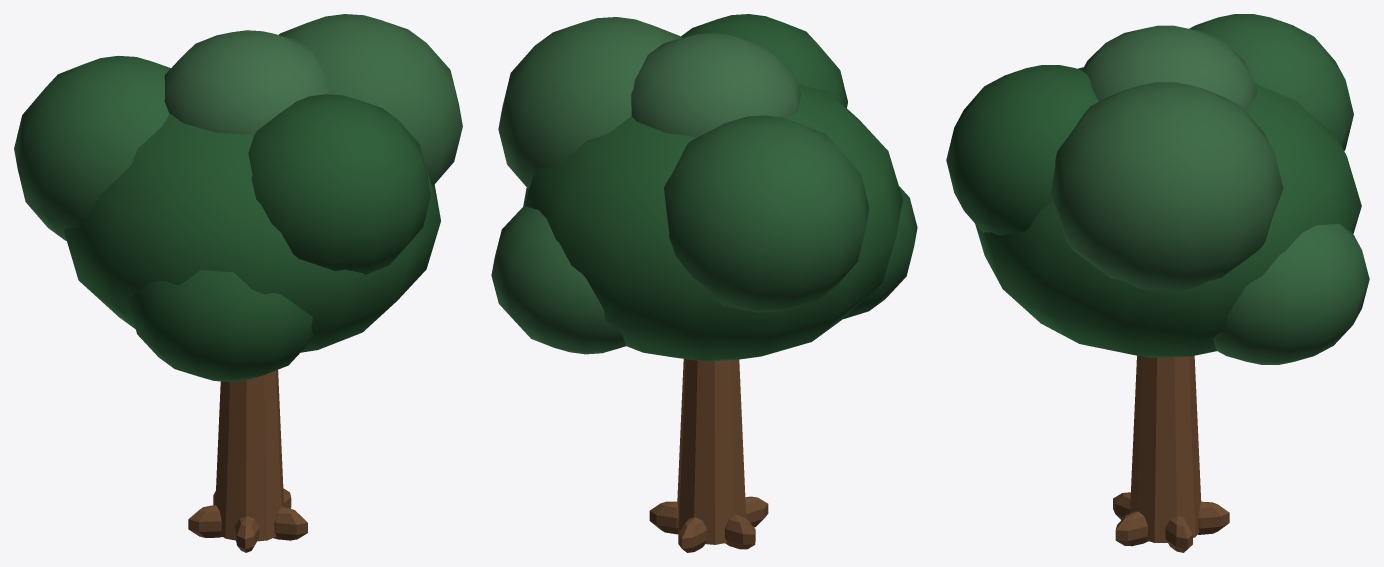
The model's file is Planta_PoisonApple.fbx.
The picture shows the model from 3 angles, left to right: view 1: azimuth 30°, elevation 25°; view 2: azimuth 150°, elevation 25°; view 3: azimuth 270°, elevation 25°; orthographic projection.
Visible parts, largest first — view 1: Corpo_PoisonApple; view 2: Corpo_PoisonApple; view 3: Corpo_PoisonApple.
Boxes of the visible parts, x1,y1,x2,y2 form: Corpo_PoisonApple: (14,14,462,552); Corpo_PoisonApple: (491,14,917,552); Corpo_PoisonApple: (946,14,1369,552).
Bounding box in the file's own units: 5.06 × 6.33 × 4.86.
Materials: 1 (1 with a texture image).
